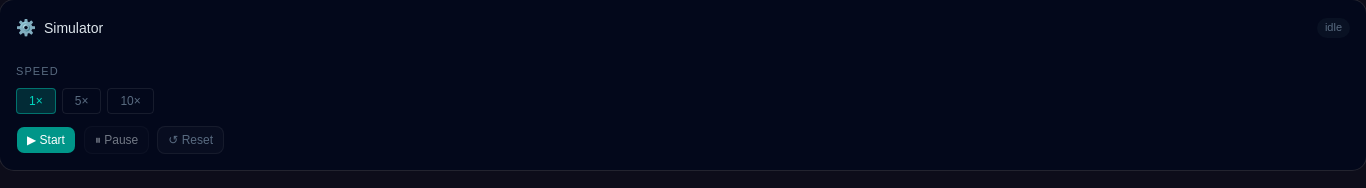
Test: SimulatorControls › shows running status after start
Click the button with test id "sim-start" at (46, 140), box [16,126,76,154]
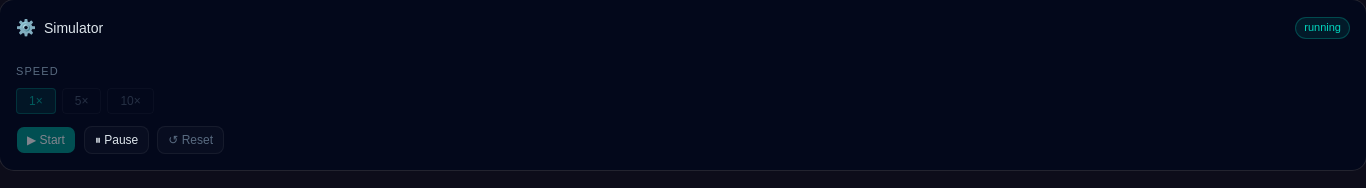
Now the text "running" is shown, box [1295,17,1350,39]
